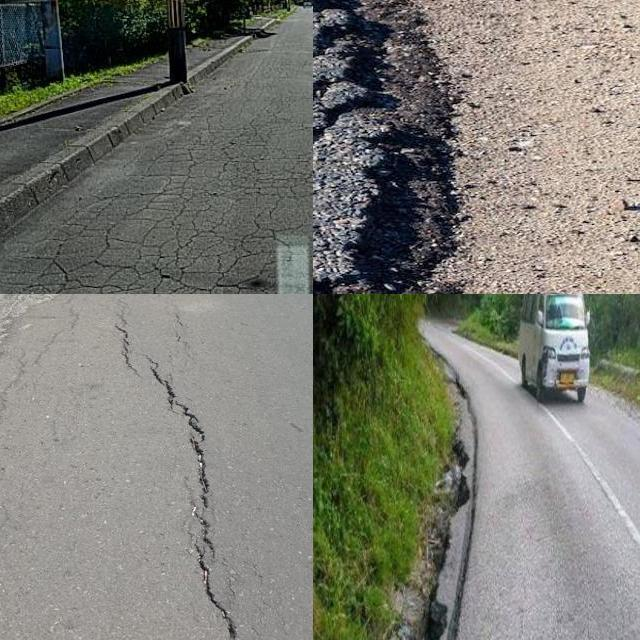Memanjang: (102, 299, 248, 640)
Pinggir: (313, 0, 504, 294), (397, 394, 487, 640)
Retak Buaya: (15, 143, 313, 294)
